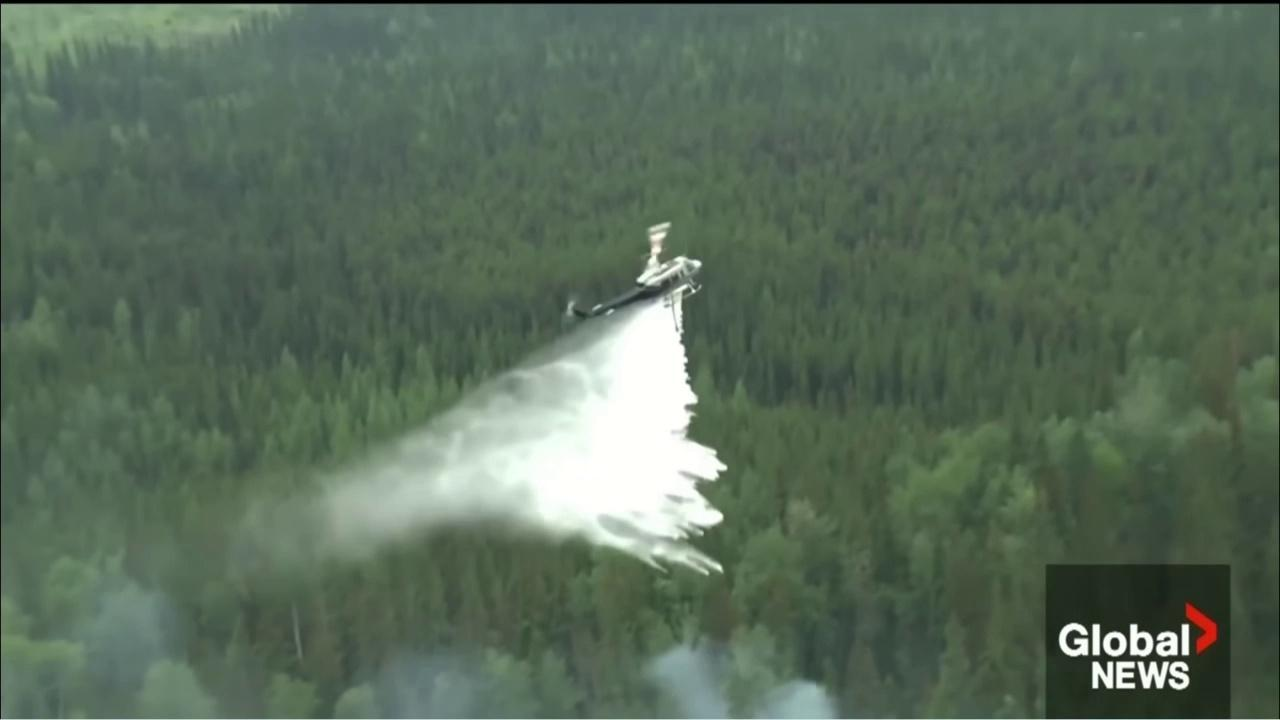smoke: (0, 570, 247, 718), (638, 637, 851, 720), (325, 633, 502, 720)
